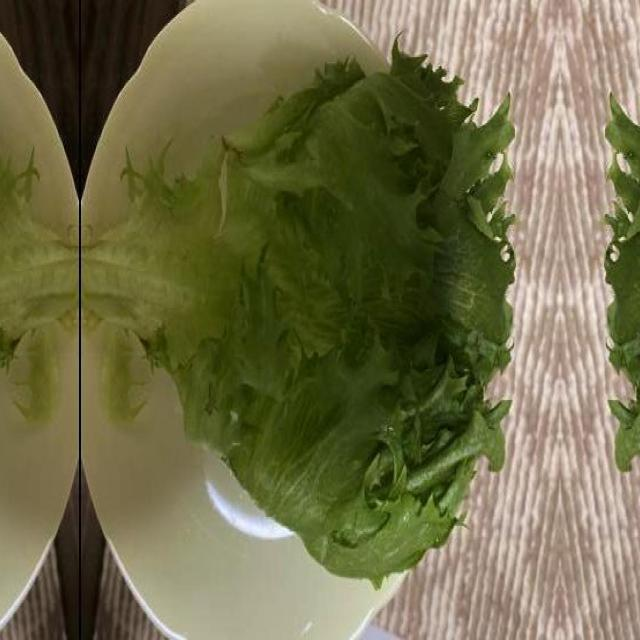healthy: (85, 46, 517, 586), (0, 46, 75, 586), (603, 46, 640, 586)
